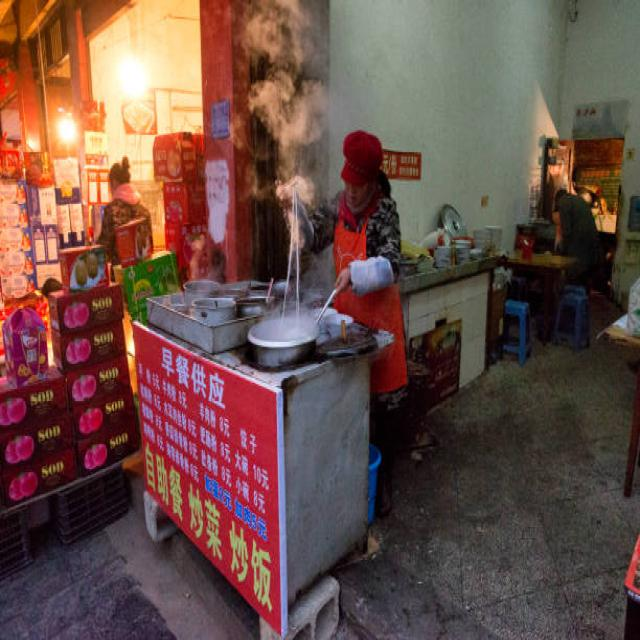Emperan: (123, 132, 422, 640)
